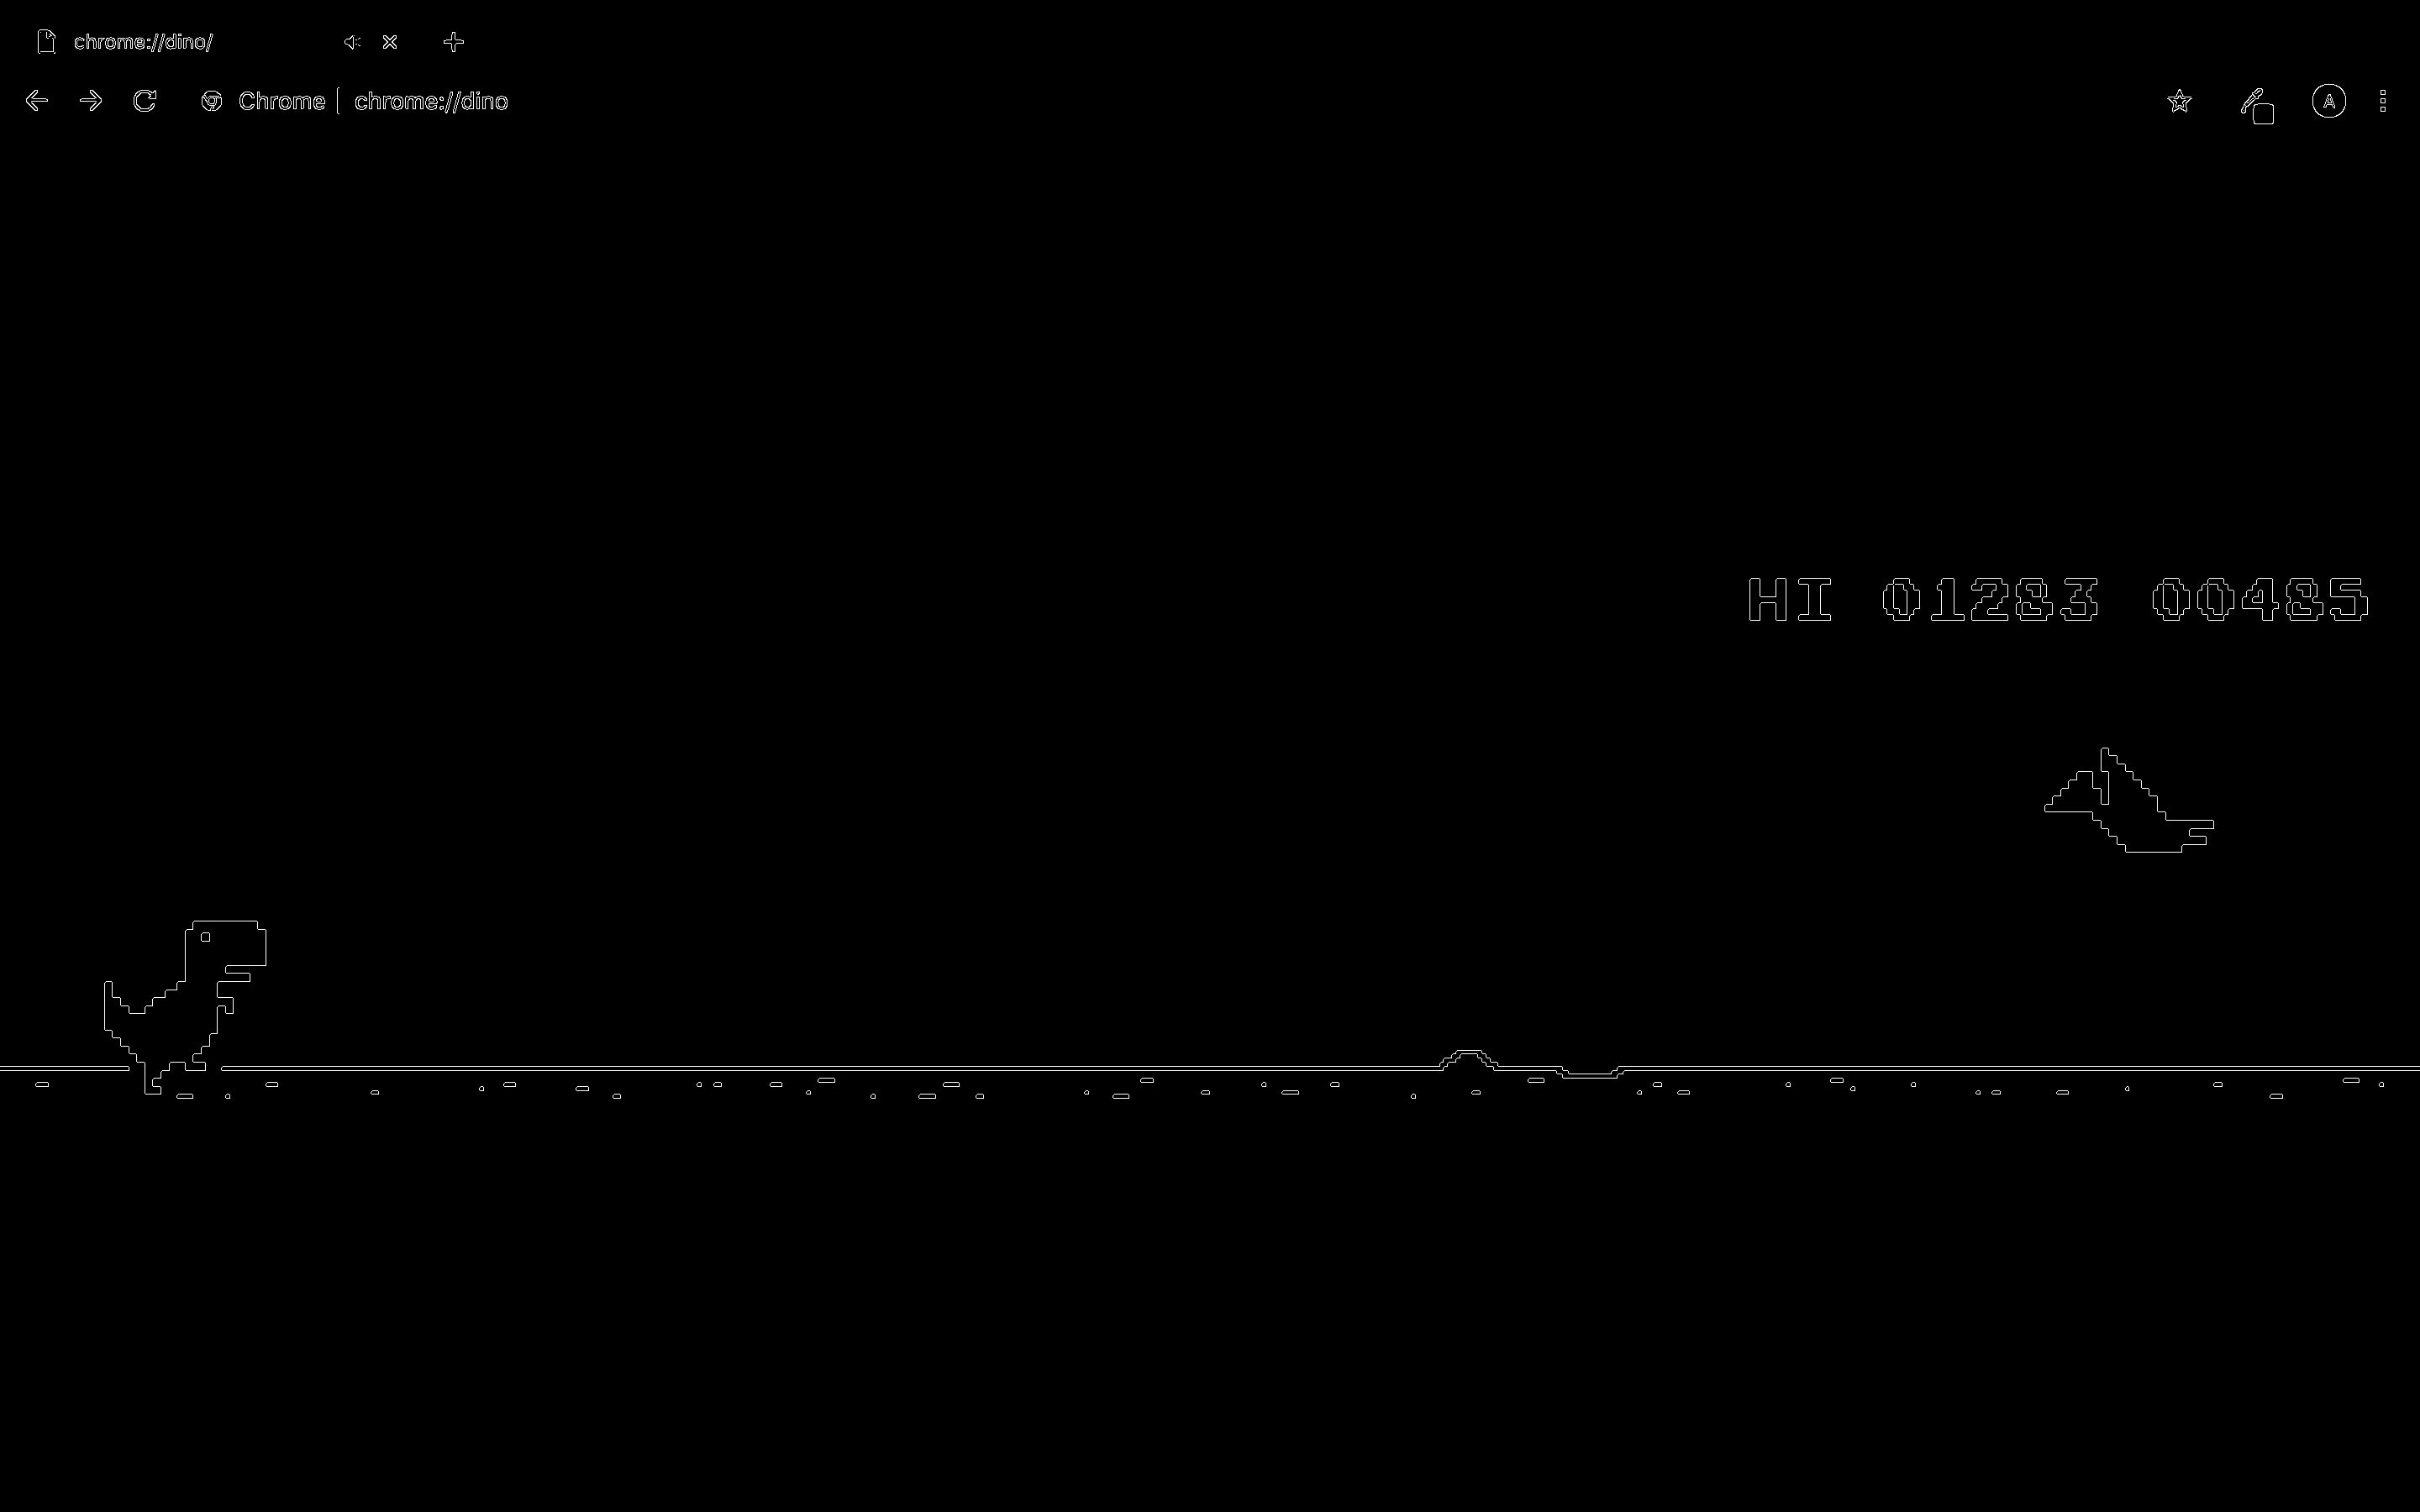Bird: (2040, 754, 2228, 857)
Dino: (101, 921, 281, 1097)
